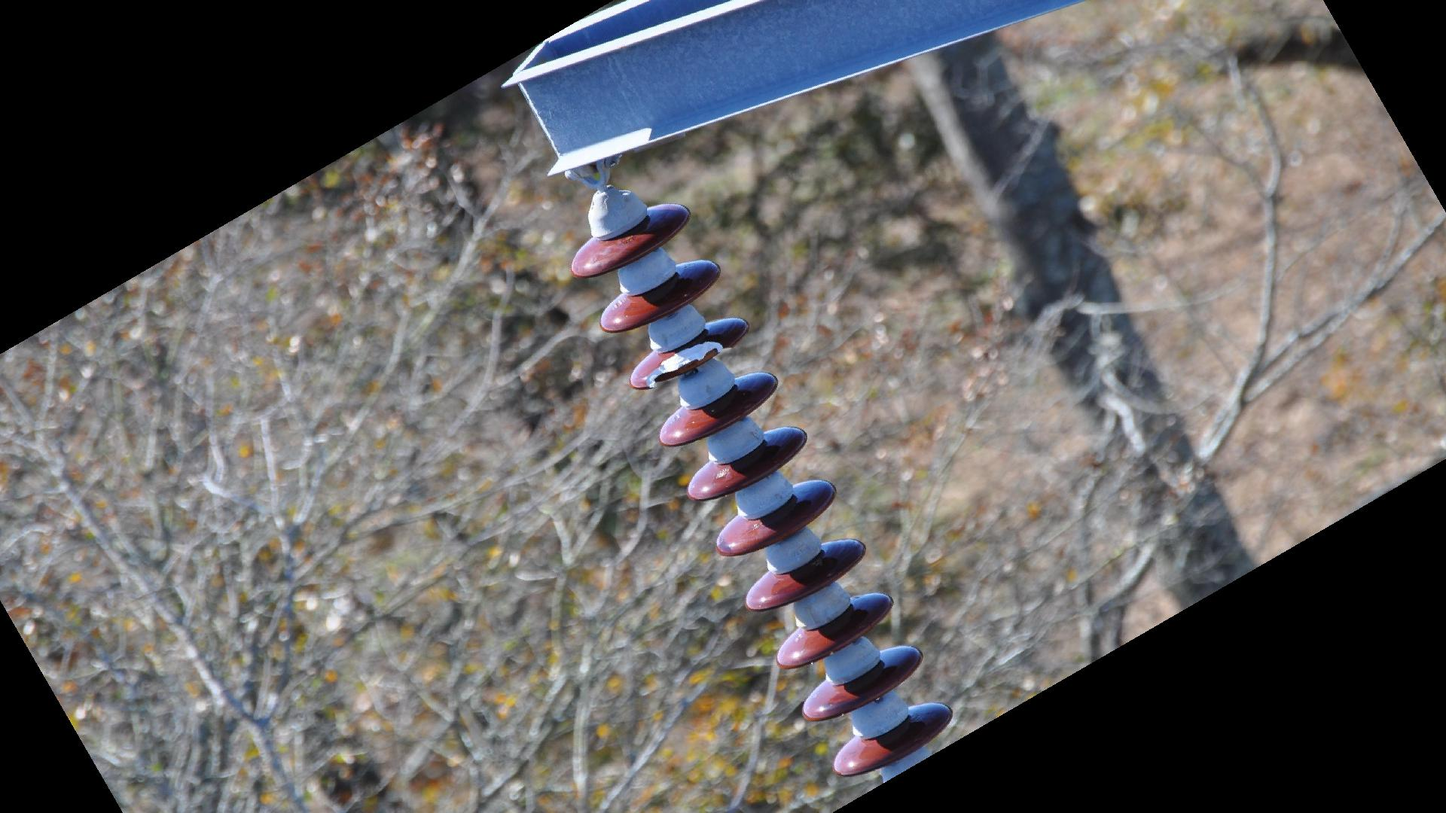insulator: (565, 198, 959, 781)
insulator_breakage: (642, 335, 734, 393)
